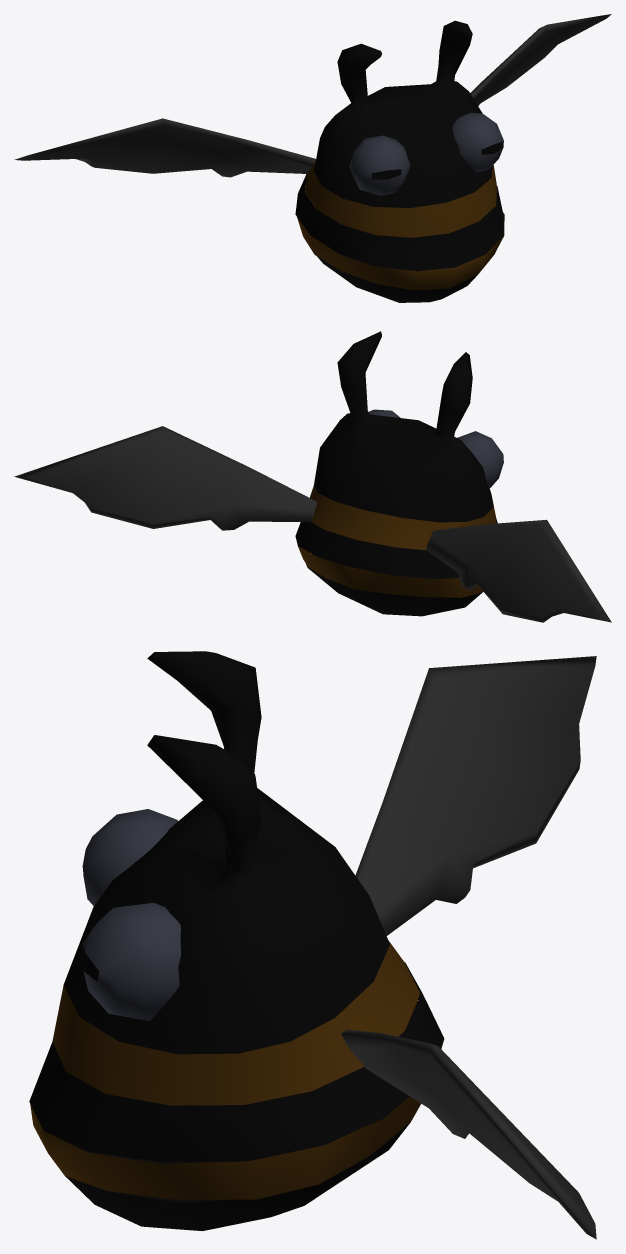
File: armabee.common-far.glb
3 views of the same model, one above another, from view 1: azimuth 30°, elevation 25°; view 2: azimuth 150°, elevation 25°; view 3: azimuth 270°, elevation 25° (orthographic). The views are drawn at different scales.
Visible parts, largest first — view 1: HordeReadyRigidMesh; view 2: HordeReadyRigidMesh; view 3: HordeReadyRigidMesh.
Boxes of the visible parts, left/top/right/bottom form: HordeReadyRigidMesh: left=14, top=14, right=611, bottom=302; HordeReadyRigidMesh: left=14, top=331, right=611, bottom=622; HordeReadyRigidMesh: left=29, top=651, right=596, bottom=1239.
Bounding box in the file's own units: 2.93 × 1.2 × 1.2.
